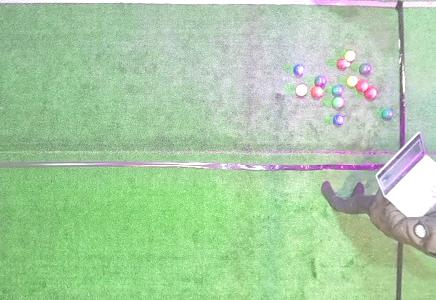blue: (334, 115, 344, 126), (294, 65, 304, 75)
green: (332, 97, 344, 108), (360, 64, 371, 75), (382, 109, 393, 119), (315, 76, 326, 86), (332, 86, 342, 96)
red: (365, 87, 377, 99), (311, 86, 322, 98), (356, 81, 368, 92), (296, 84, 307, 96), (337, 59, 347, 69)
vline: (398, 1, 435, 148), (395, 243, 436, 299)
white: (346, 62, 350, 67)
yellow: (347, 76, 358, 87), (345, 51, 355, 61)
